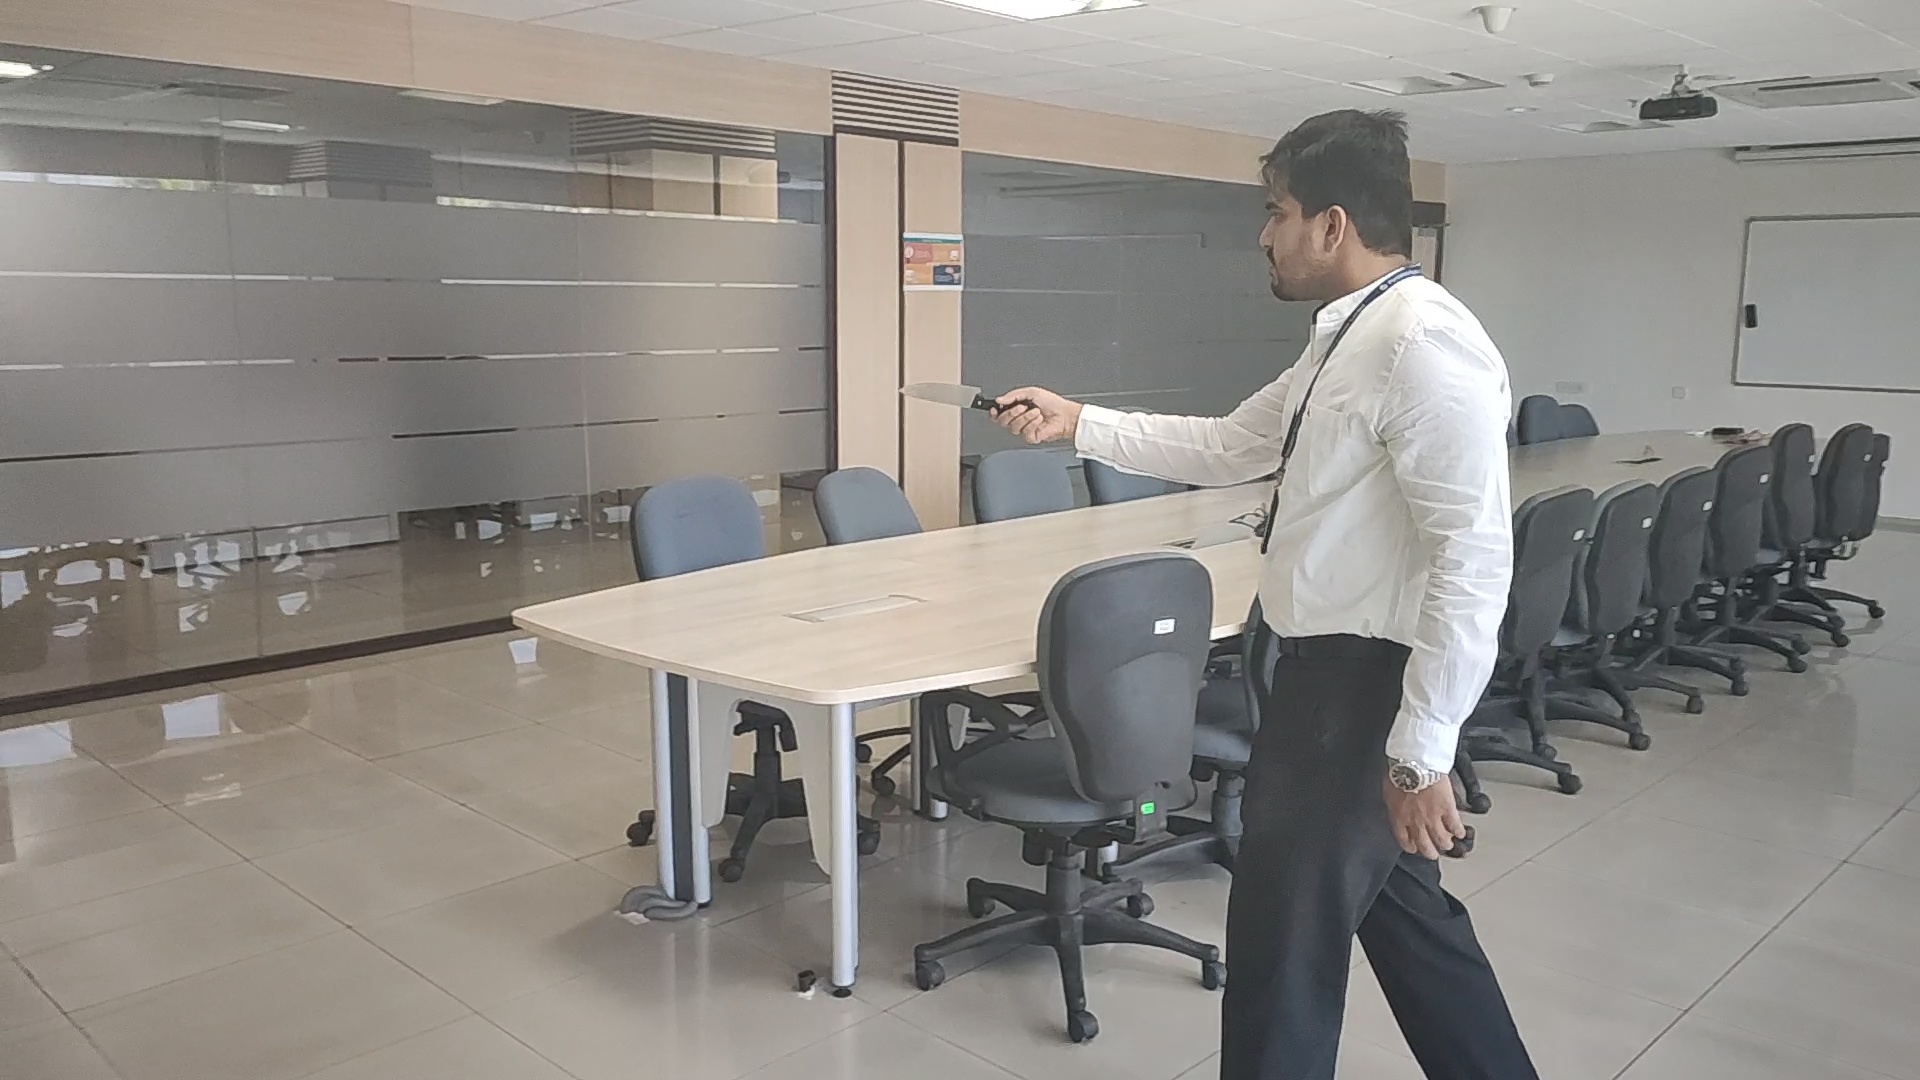knife: (898, 381, 988, 411)
